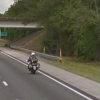Motorcycle: (20, 49, 41, 78)
